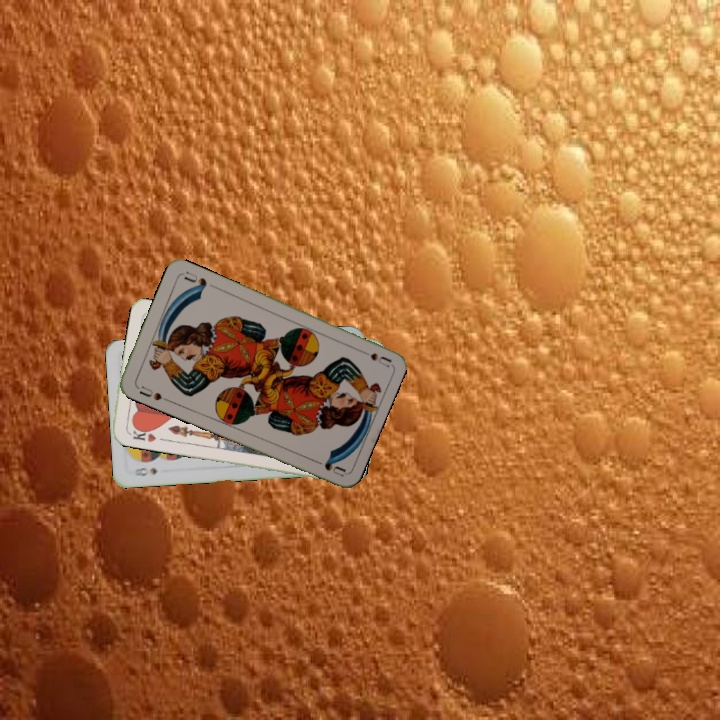HK: (124, 423, 159, 445)
S8: (131, 463, 159, 478)
SU: (353, 345, 393, 369), (135, 382, 171, 404)
